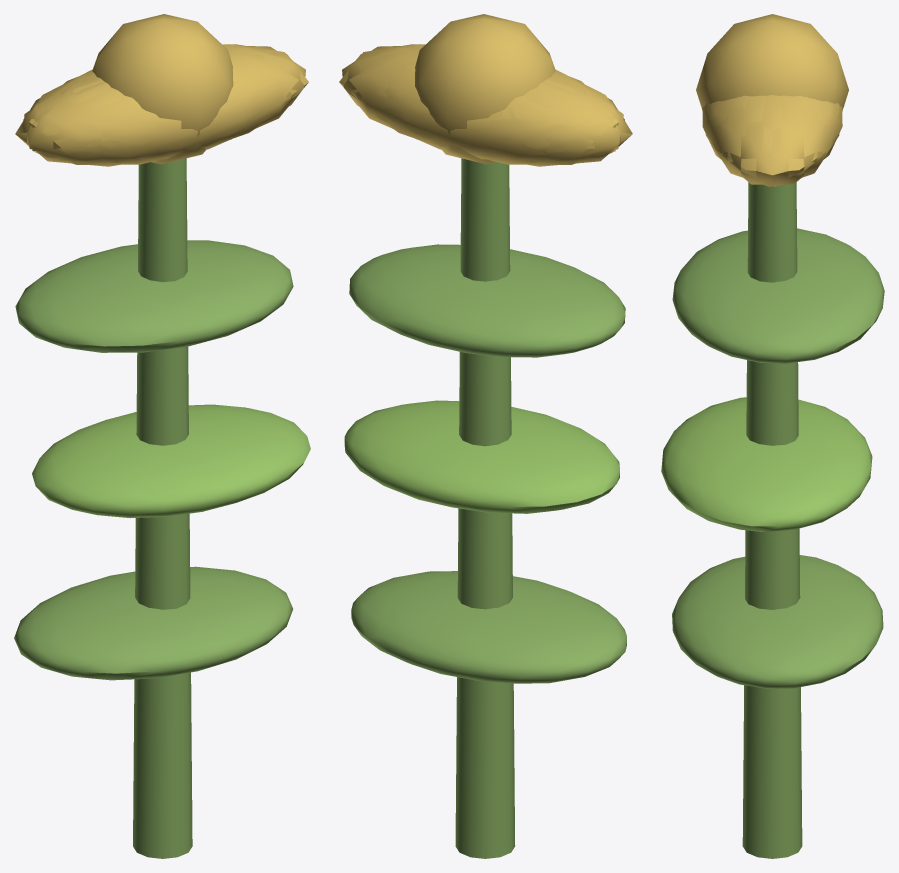
The model's file is magnolia-alba.glb.
3 views of the same model, side by side, from view 1: azimuth 30°, elevation 25°; view 2: azimuth 150°, elevation 25°; view 3: azimuth 270°, elevation 25° (orthographic).
Visible parts, largest first — view 1: stem, leaf1, leaf2, leaf0, center, petal6, petal2, petal1, petal5, petal7, petal0; view 2: stem, leaf2, leaf0, leaf1, center, petal3, petal7, petal8, petal4, petal2, petal0; view 3: stem, leaf1, leaf2, leaf0, center, petal0, petal5, petal4, petal1, petal8.
Boxes of the visible parts, x1,y1,x2,y2 form: stem: (133,158,192,858); leaf1: (32,404,310,518); leaf2: (15,240,293,352); leaf0: (14,566,292,680); center: (92,14,233,164); petal6: (32,82,220,164); petal2: (24,77,169,166); petal1: (98,62,292,162); petal5: (158,52,308,155); petal7: (15,72,110,158); petal0: (227,46,305,139); stem: (455,158,515,858); leaf2: (349,244,625,357); leaf0: (351,571,626,683); leaf1: (344,400,619,513); center: (415,14,555,164); petal3: (428,82,615,164); petal7: (478,77,623,166); petal8: (356,62,549,162); petal4: (339,52,489,155); petal2: (537,72,632,158); petal0: (342,46,420,139); stem: (742,182,802,858); leaf1: (661,397,872,531); leaf2: (672,228,884,363); leaf0: (672,555,883,688); center: (696,14,848,108); petal0: (716,95,828,184); petal5: (705,95,784,186); petal4: (761,95,839,186); petal1: (702,95,750,160); petal8: (794,95,842,160).
Bounding box in the file's own units: 0.1541 × 0.4283 × 0.105.
